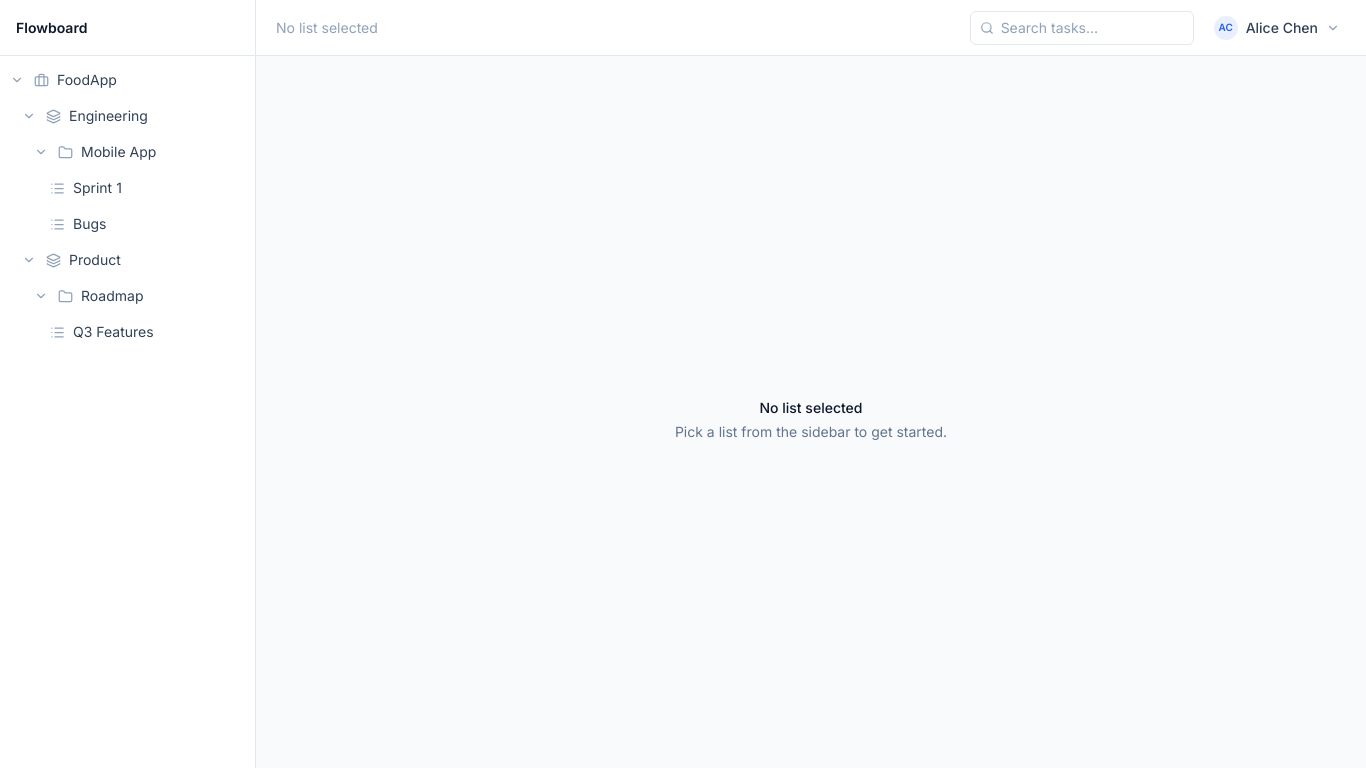
Scenario: Switching user changes the tree › restores the full tree on switching back
The image size is (1366, 768).
Click the button with aria-label "Switch user": (1278, 28) [1210,12,1346,44]
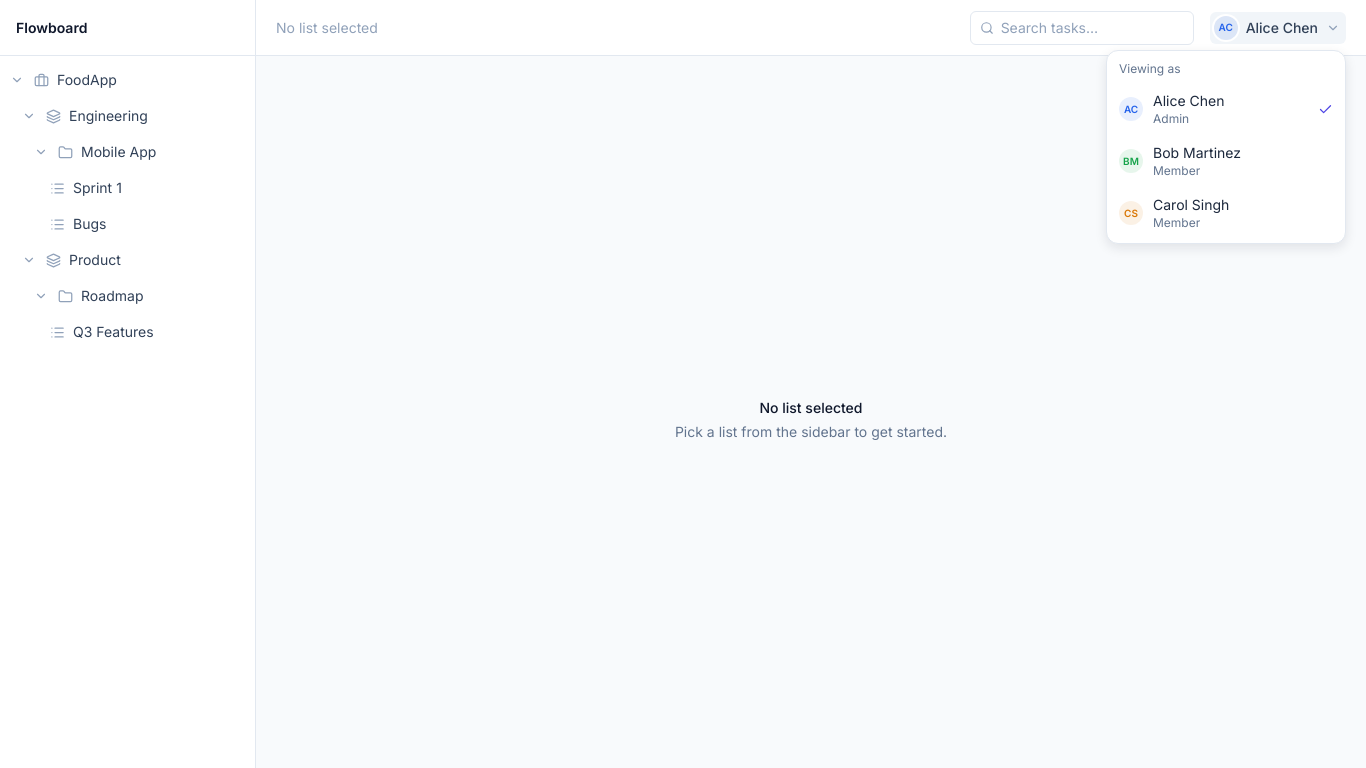
Click the menu item "BM Bob Martinez member": (1226, 161) [1111,135,1341,187]
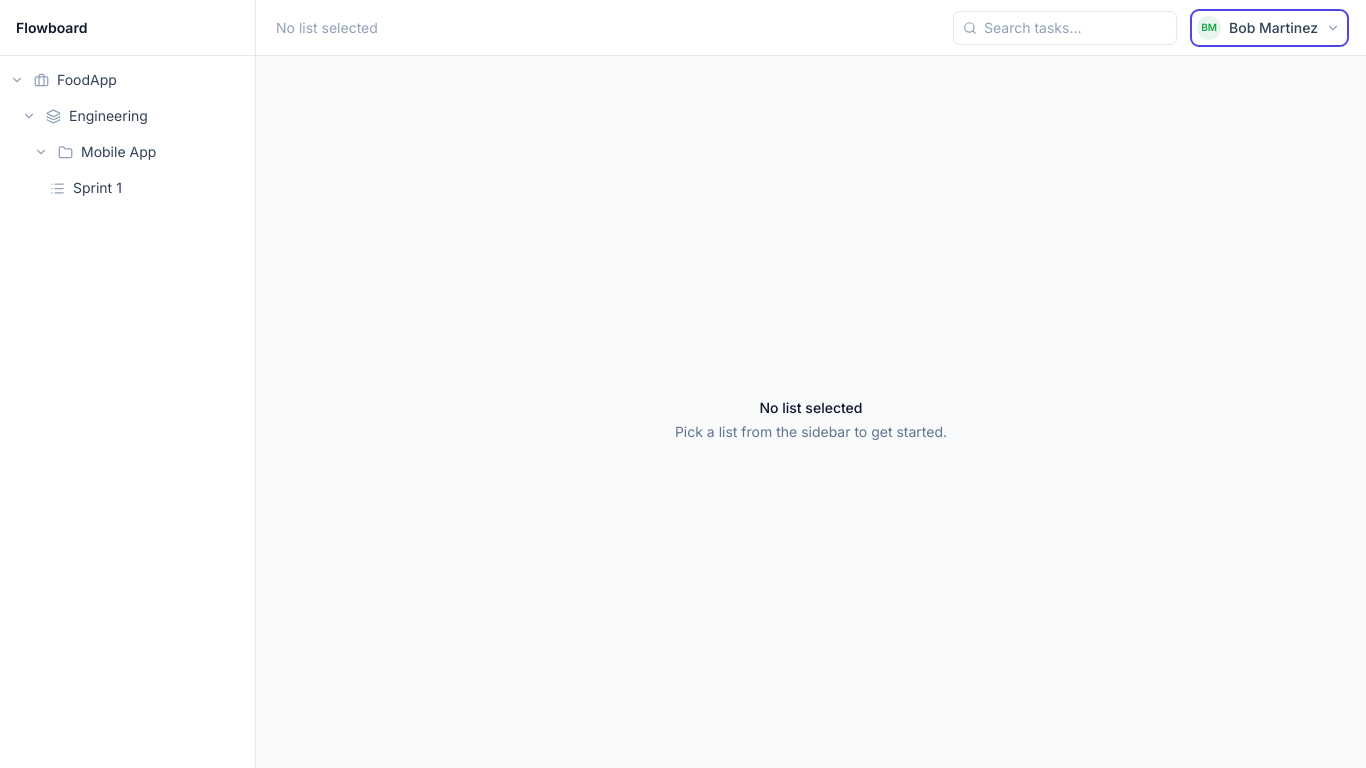
Now the button "Bugs" no longer shows "Bugs"
Click the button with aria-label "Switch user": (1270, 28) [1193,12,1346,44]
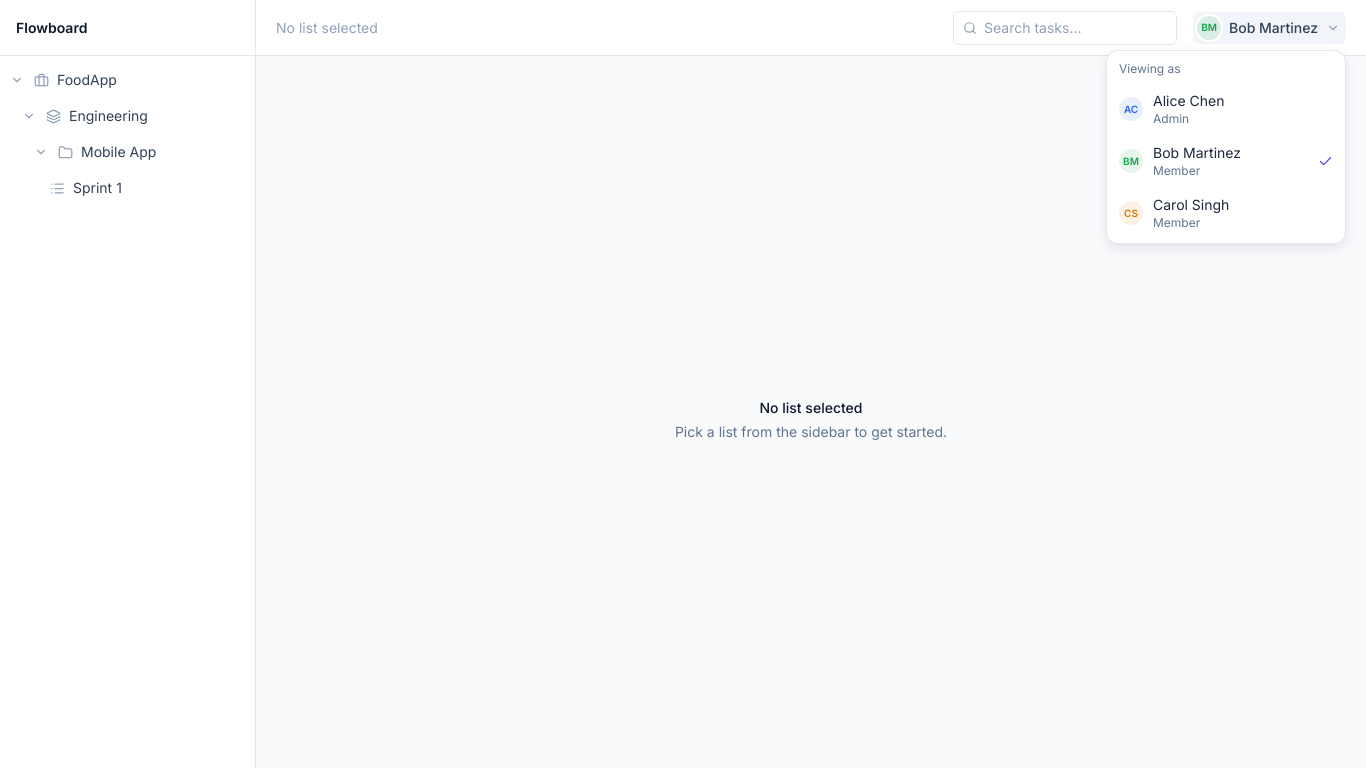
Click the menu item "AC Alice Chen admin": (1226, 109) [1111,83,1341,135]
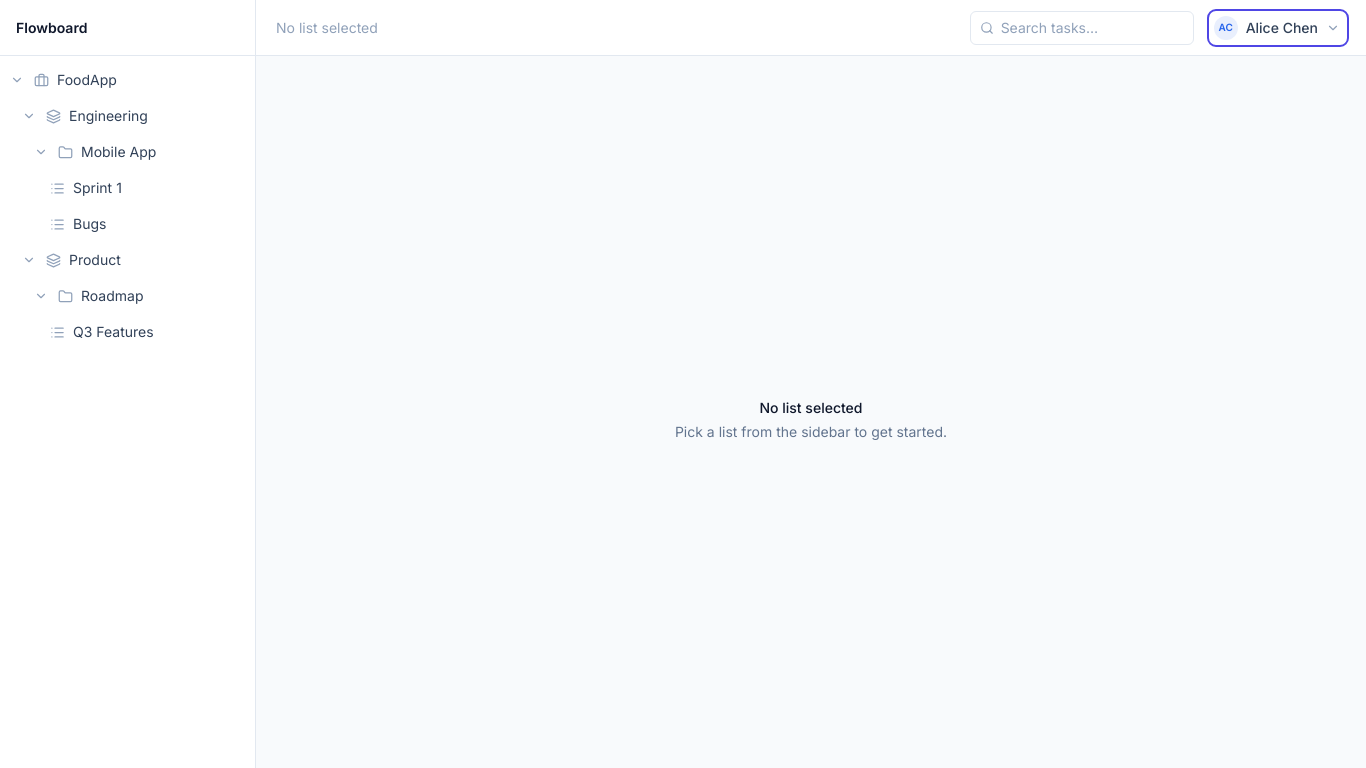
Now the text "Bugs" is shown, box [73,214,106,234]
